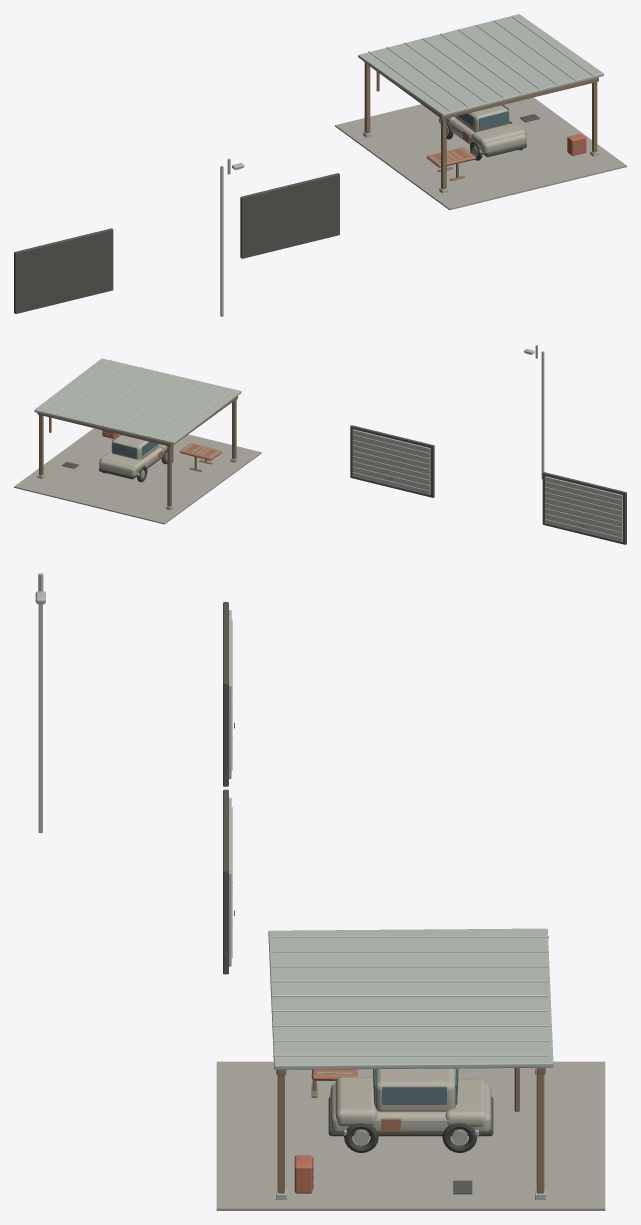
File: backyard_neighbourhood_vignette.glb
The picture shows the model from 3 angles, top to bottom: view 1: azimuth 30°, elevation 25°; view 2: azimuth 150°, elevation 25°; view 3: azimuth 270°, elevation 25°; orthographic projection. The views are drawn at different scales.
Parts seen in each view (by area): view 1: Carport concrete hardstand.001; view 2: Carport concrete hardstand.001; view 3: Carport concrete hardstand.001.
Boxes of the visible parts, <box> form: Carport concrete hardstand.001: <box>14,14,626,316</box>; Carport concrete hardstand.001: <box>14,345,626,544</box>; Carport concrete hardstand.001: <box>35,573,605,1210</box>.
Bounding box in the file's own units: 32.3 × 7.88 × 15.39.
